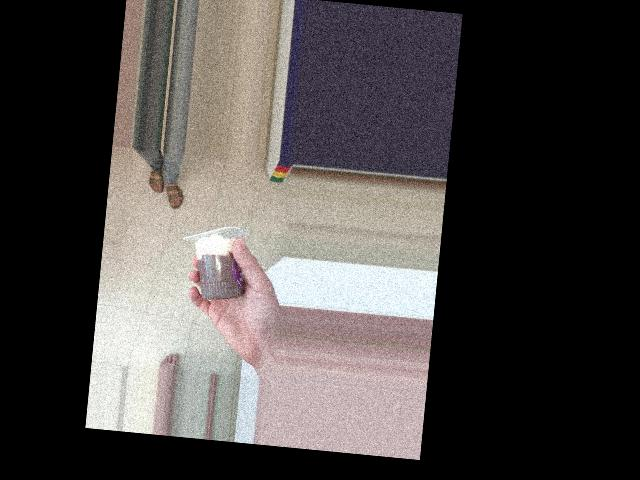milky: (190, 221, 245, 306)
